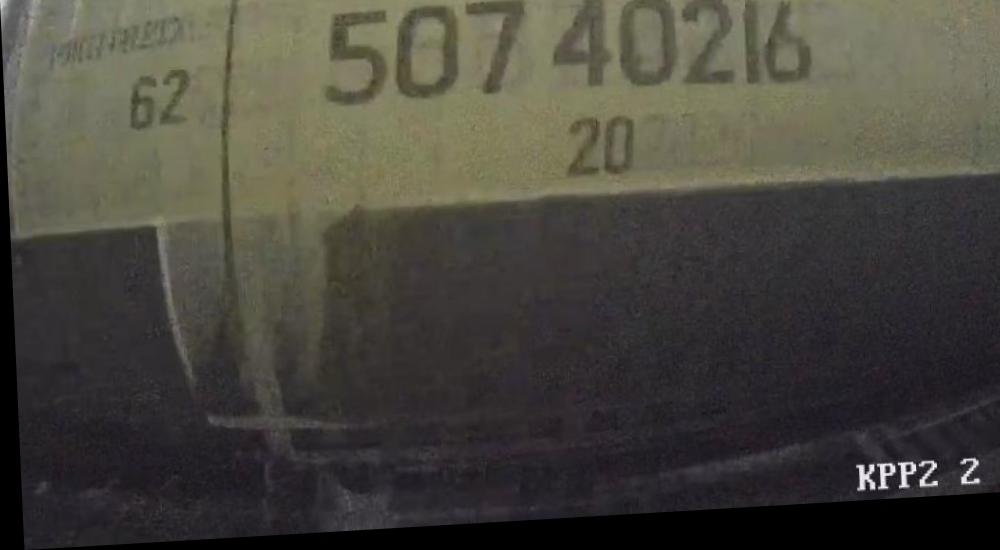Wagon-number: (316, 0, 815, 123)
